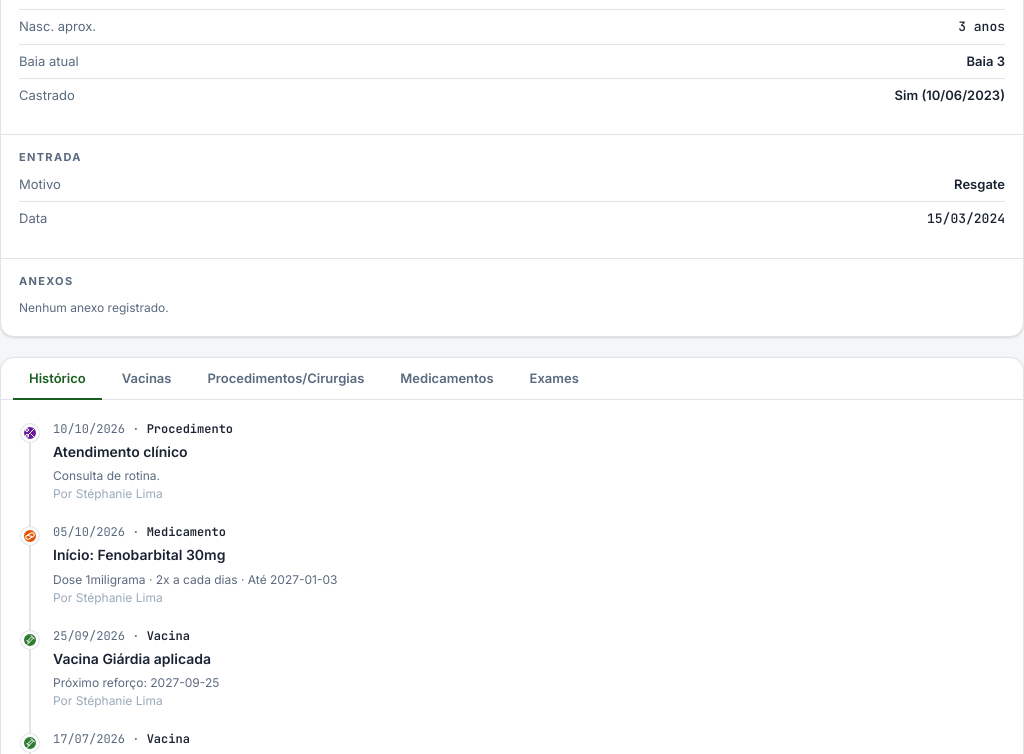
Test: FichaAnimal › esconde os botões de registro para Agente Sanitário (perfil só-leitura)
(page scrolled)
Click the tab "Vacinas".
click(147, 378)  # box [106, 358, 188, 400]
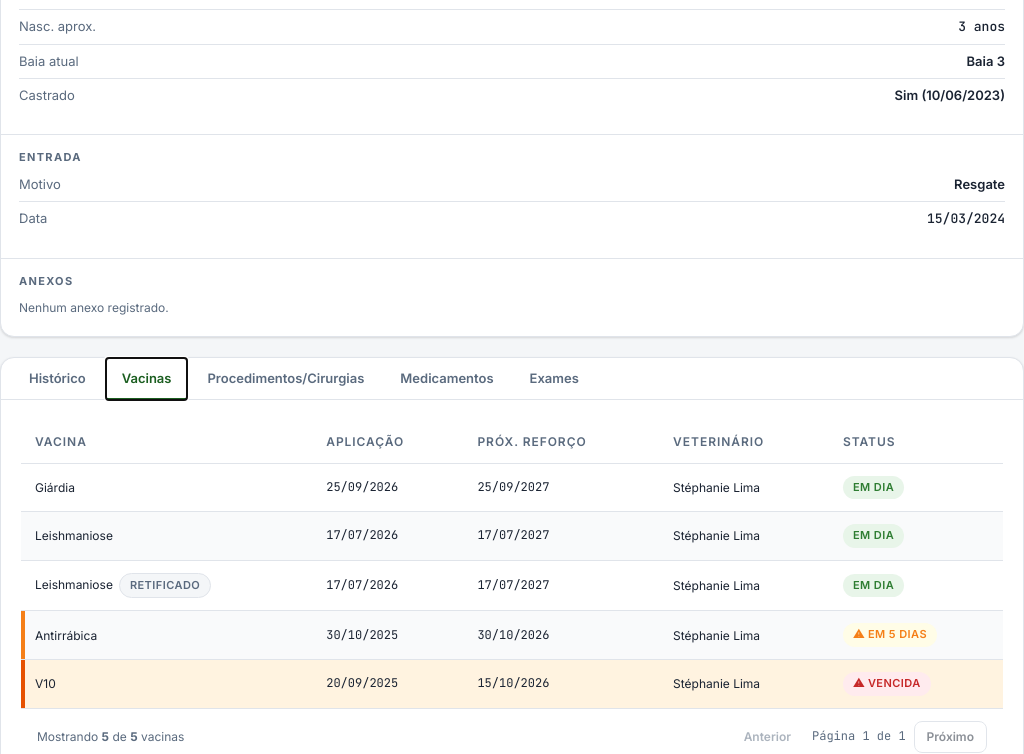
Expected: the text "V10" is shown, [21, 660, 312, 708]
Expected: the button "registrar vacina" is gone
